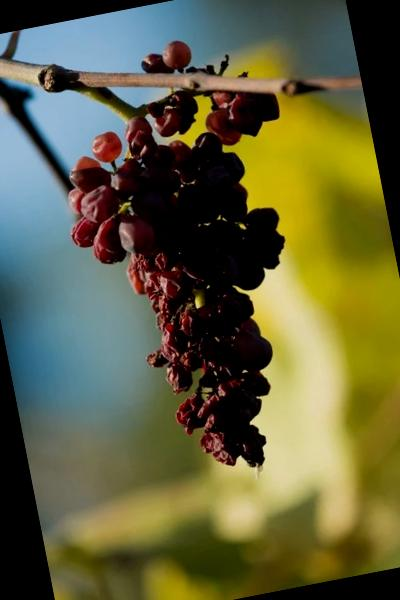Grape Rotten: (38, 22, 347, 501)
